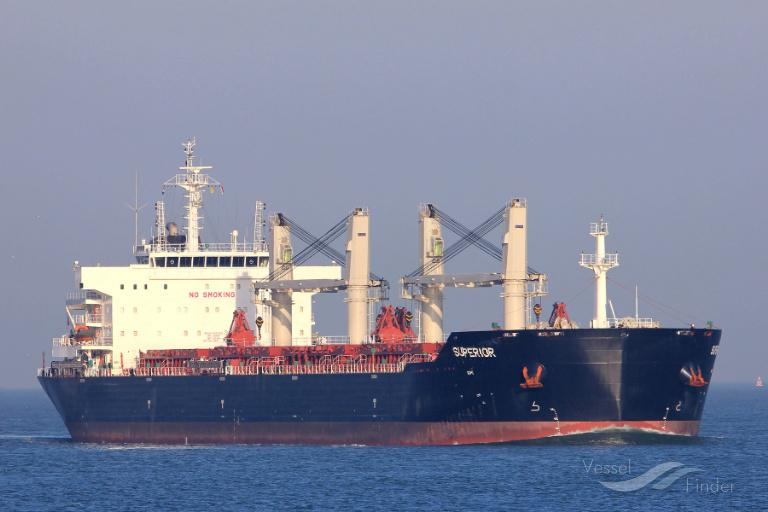OCR: (444, 338, 501, 364)
